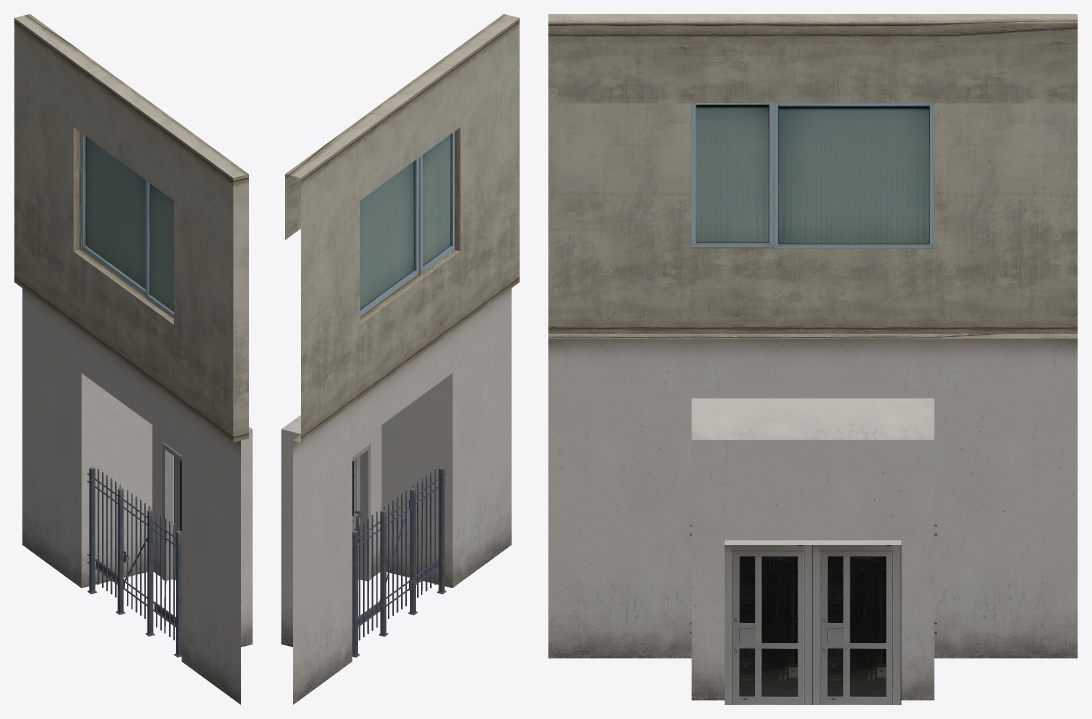
The model's file is SM_ind_building_05.fbx.
3 views of the same model, side by side, from view 1: azimuth 30°, elevation 25°; view 2: azimuth 150°, elevation 25°; view 3: azimuth 270°, elevation 25° (orthographic). The views are drawn at different scales.
Parts seen in each view (by area): view 1: SM_ind_building_05; view 2: SM_ind_building_05; view 3: SM_ind_building_05.
Part boxes in pixels (x1=…): SM_ind_building_05: x1=14, y1=14, x2=252, y2=704; SM_ind_building_05: x1=281, y1=14, x2=519, y2=704; SM_ind_building_05: x1=548, y1=14, x2=1077, y2=704.
Bounding box in the file's own units: 179 × 768 × 1024.
Materials: 5 (5 with a texture image).
